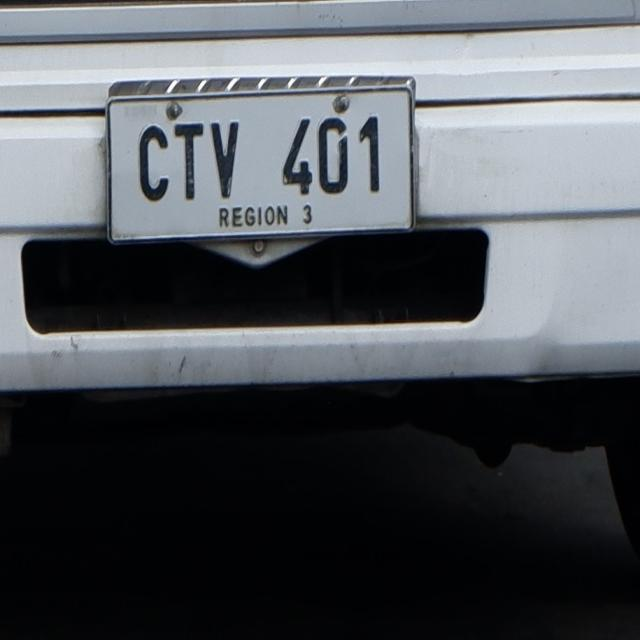LicensePlate: (80, 76, 440, 249)
